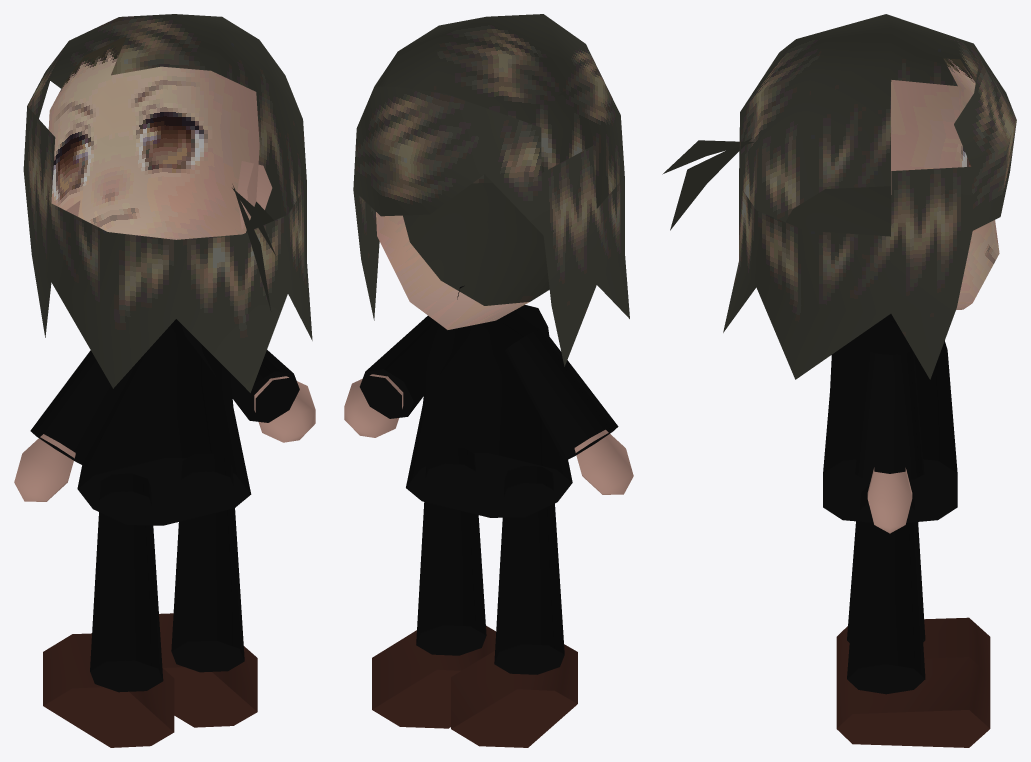
The model's file is ps2_save-icons_houkagowagin.glb.
The picture shows the model from 3 angles, left to right: view 1: azimuth 30°, elevation 25°; view 2: azimuth 150°, elevation 25°; view 3: azimuth 270°, elevation 25°; orthographic projection. The views are drawn at different scales.
Parts seen in each view (by area): view 1: icon.ico; view 2: icon.ico; view 3: icon.ico.
Boxes of the visible parts, bbox=[...] form: icon.ico: bbox=[14, 14, 315, 747]; icon.ico: bbox=[344, 14, 633, 747]; icon.ico: bbox=[662, 14, 1016, 747].
Size of the model in its own units: 2.19 by 4.87 by 2.29.
Materials: 1 (1 with a texture image).
